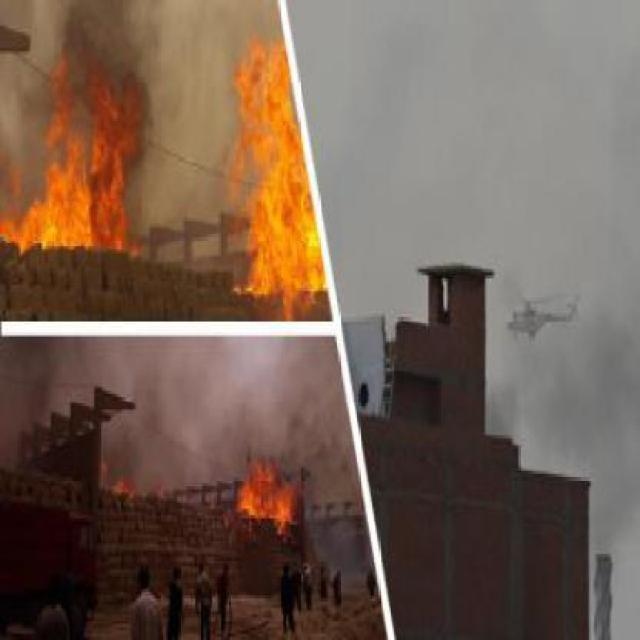Fire: (5, 50, 160, 266), (228, 38, 330, 294), (228, 458, 307, 534), (113, 478, 136, 496)
Smoke: (18, 0, 144, 83), (2, 333, 68, 422), (137, 82, 180, 164), (102, 418, 136, 471)
